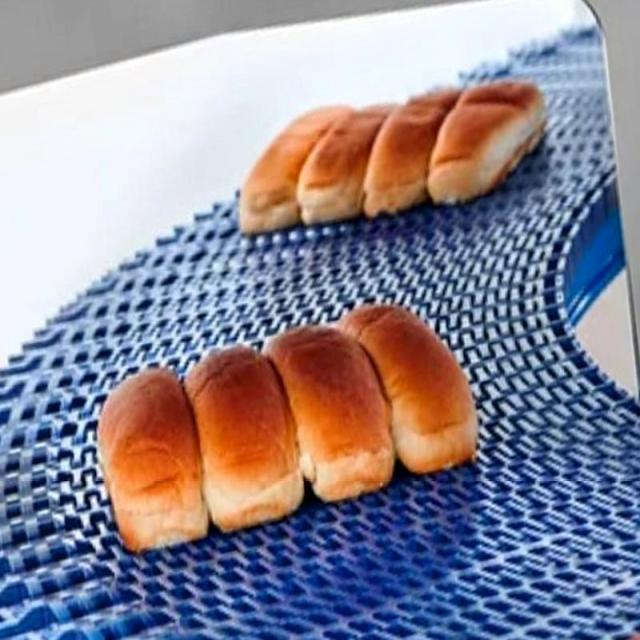food: (94, 300, 480, 554), (236, 74, 549, 236)
